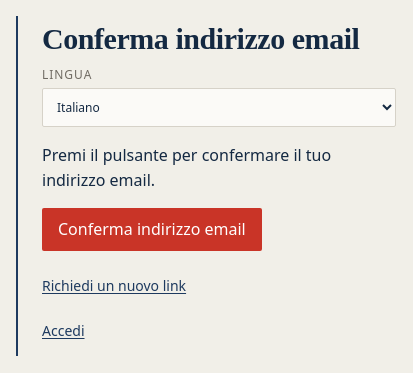
Test: requires an explicit click before consuming an email confirmation link
The width and height of the screenshot is (413, 373).
Click the button "Conferma indirizzo email". click: (152, 230)
box: [42,208,262,251]
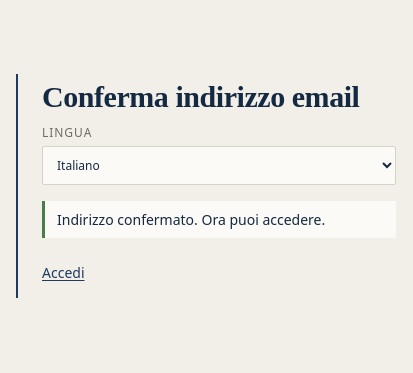
Expected: the message shows "Indirizzo confermato", [57,210,325,229]
